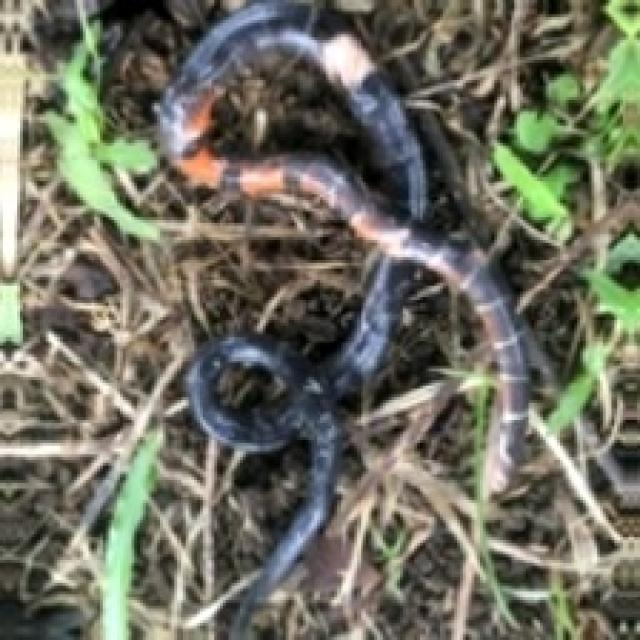barredcoral snake: (157, 0, 526, 637)
